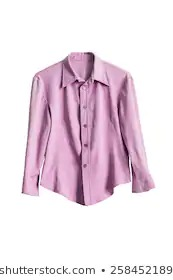C_blouse: (22, 57, 160, 206)
